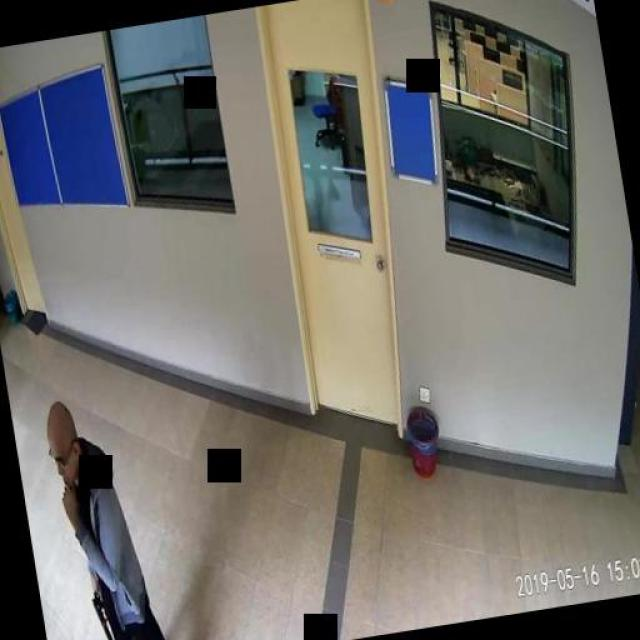gun: (88, 586, 112, 640)
